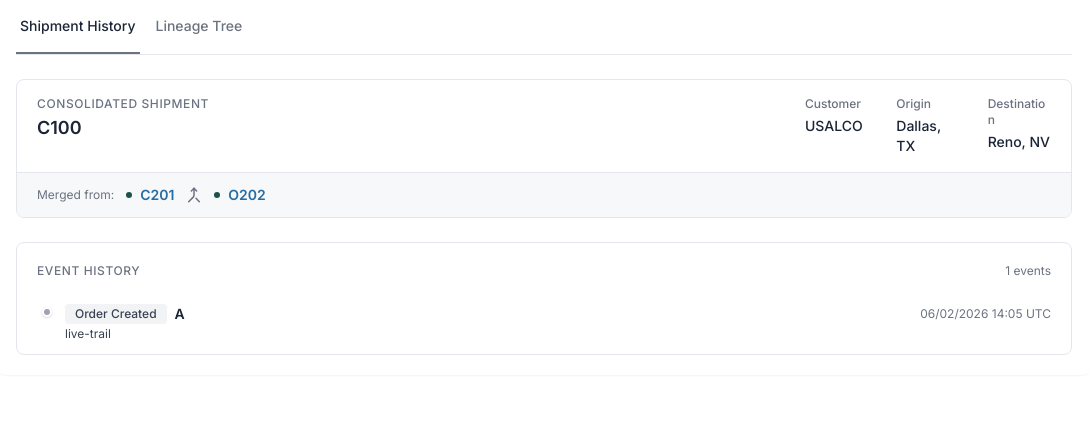
it: HistoryTab — lineage › Preview only appears on hidden rows only
Click the button "Lineage Tree" at (199, 35), box [152,16,246,54]
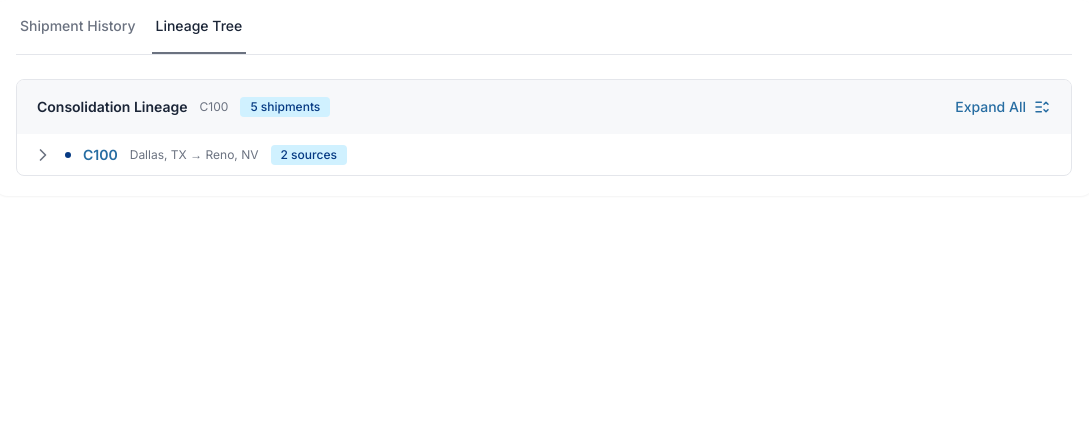
Click the button "Expand All" at (1003, 107), box [954,96,1051,118]
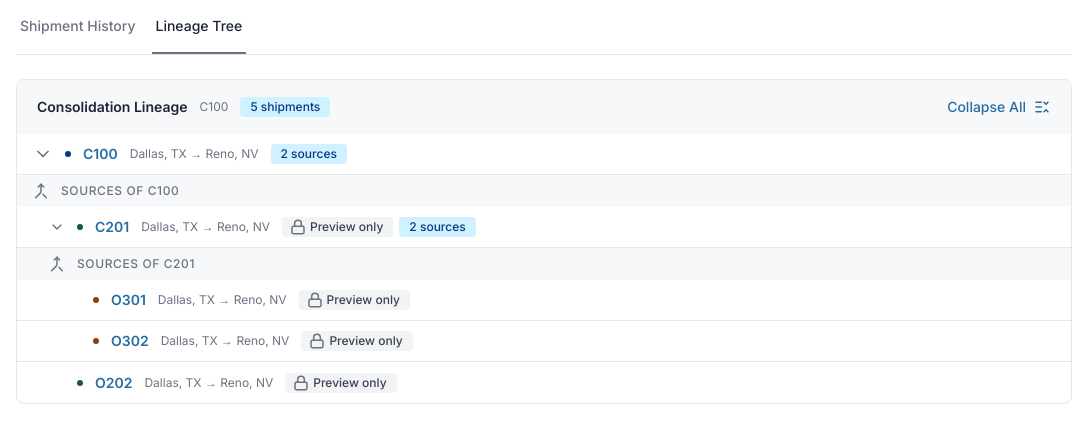
Check: the text "Preview only" is shown 4 times, box [282,217,393,237]; [299,290,410,310]; [301,331,413,351]; [285,372,396,392]
